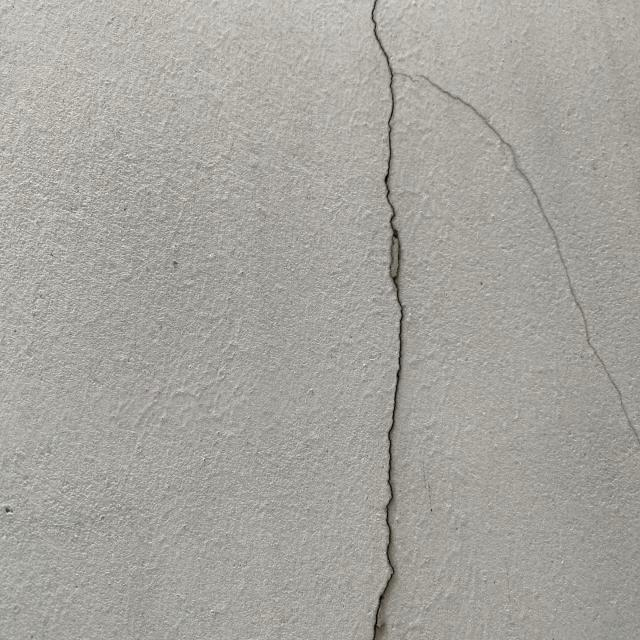SurfaceCrack: (328, 0, 456, 640)
